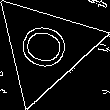O_E: (14, 20, 77, 76)
